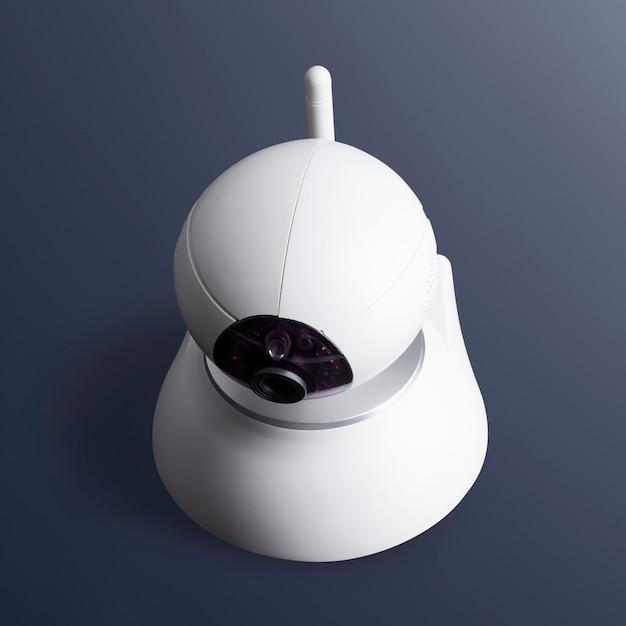camera: (110, 3, 505, 618)
